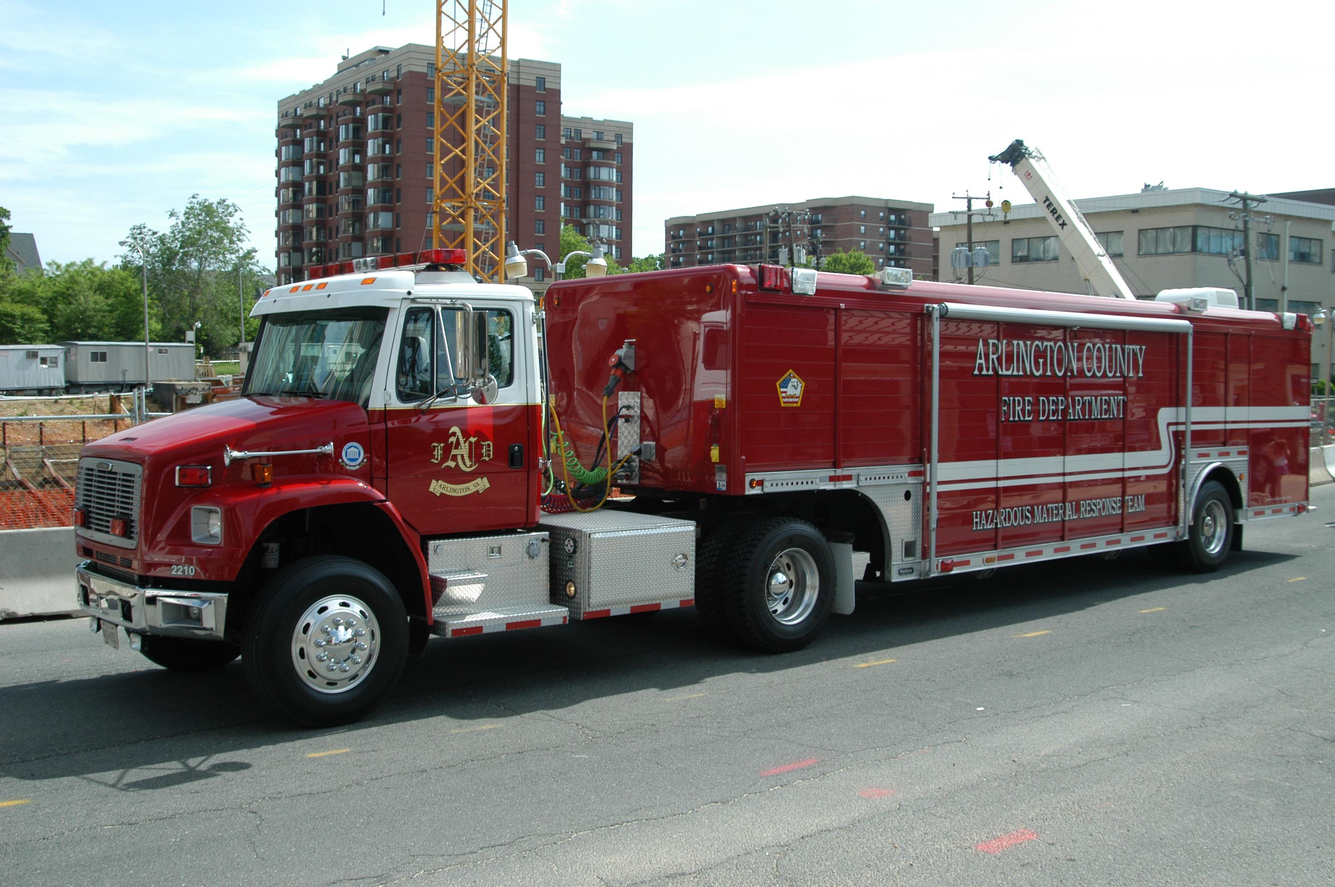Fire-engine: (72, 248, 1316, 726)
